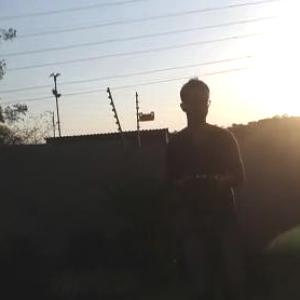follow: (164, 70, 255, 299)
